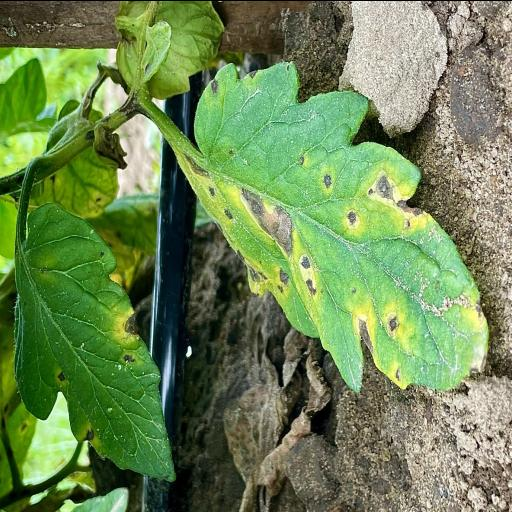Early Blight: (191, 54, 491, 398), (14, 204, 174, 482)
